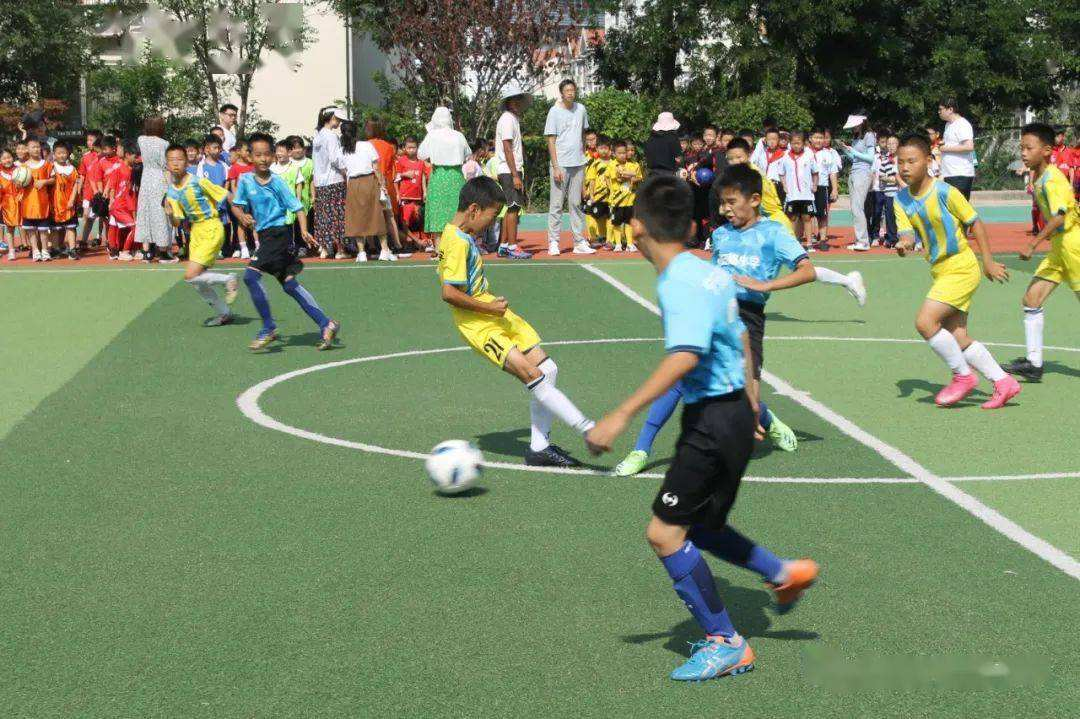football: (426, 436, 487, 496)
